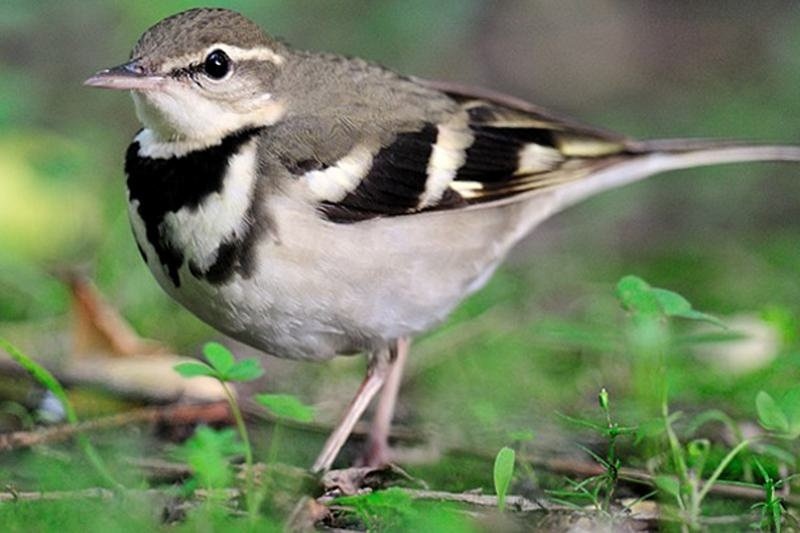wagtail: (114, 13, 713, 472)
